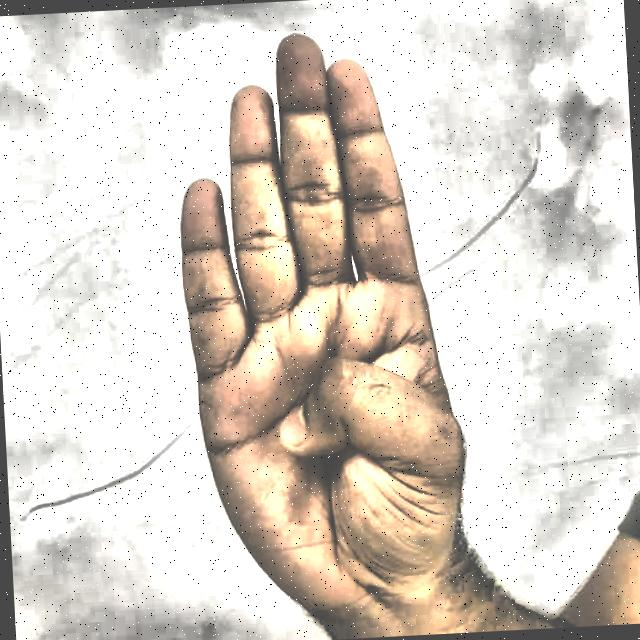Ba: (135, 5, 519, 640)
